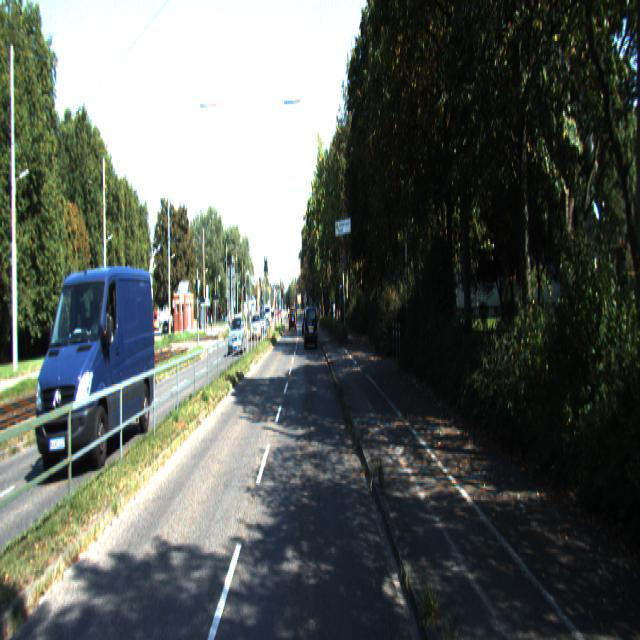Car: (36, 254, 158, 482), (228, 316, 246, 356), (305, 305, 318, 350)
